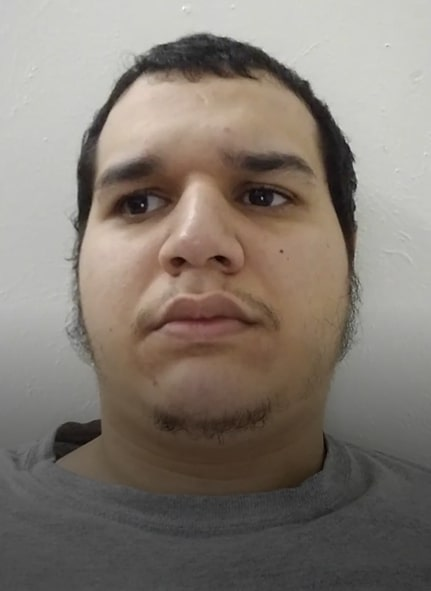Not Sleeping: (86, 152, 326, 231)
